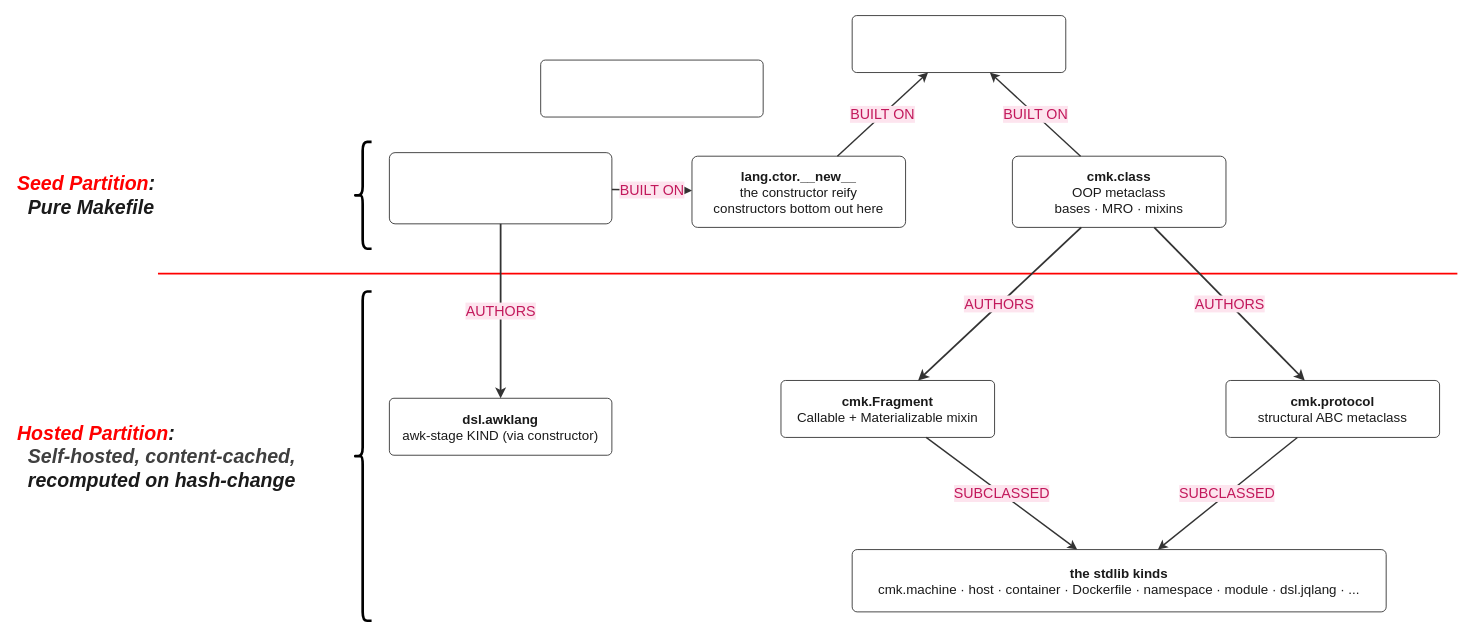
This 1474x637 diagram has some shape labels left out. The box of each missing label's shape, as (x1, y1, x2, y2) in pixels:
.awk.* stages dialect · sugar · lowering (the transpiler): (540, 59, 763, 117)
cmk.constructor = lang.ctor! grows a bare KIND (constructor / dsl): (388, 152, 612, 224)
m5.def! · m5.def.! the define write-poles: freeze · self-eval (the primitive): (851, 15, 1066, 73)
